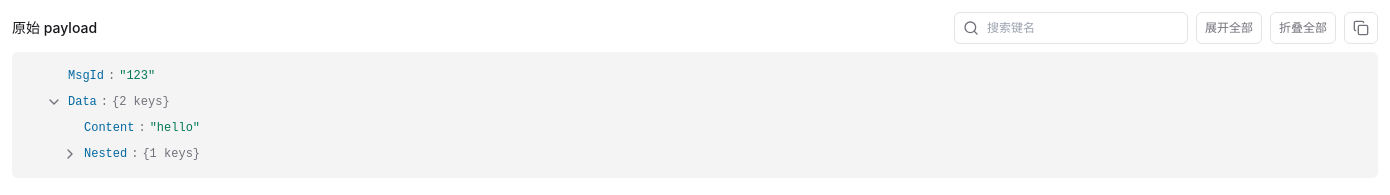
Test: JsonViewer › 支持按键名搜索并保留命中路径
Type "content" into the field named "搜索 JSON 键名" at coordinates (1083, 28), box [987,20,1179,36]
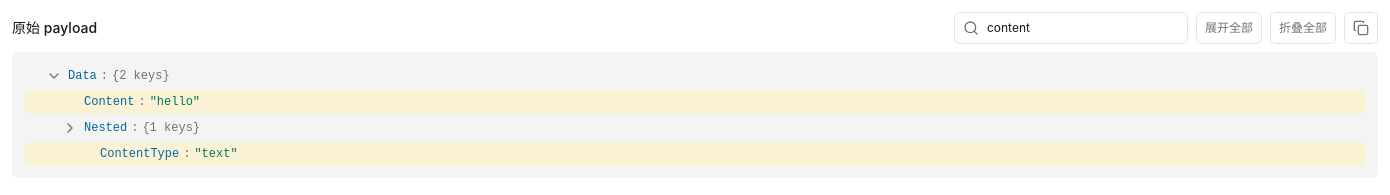
Result: the text "ContentType" is shown at [100,146,179,162]
Result: the text "MsgId" is gone
Result: the number of elements with test id "json-viewer-row-highlight" is 2 at [24,90,1366,114]; [24,142,1366,166]
